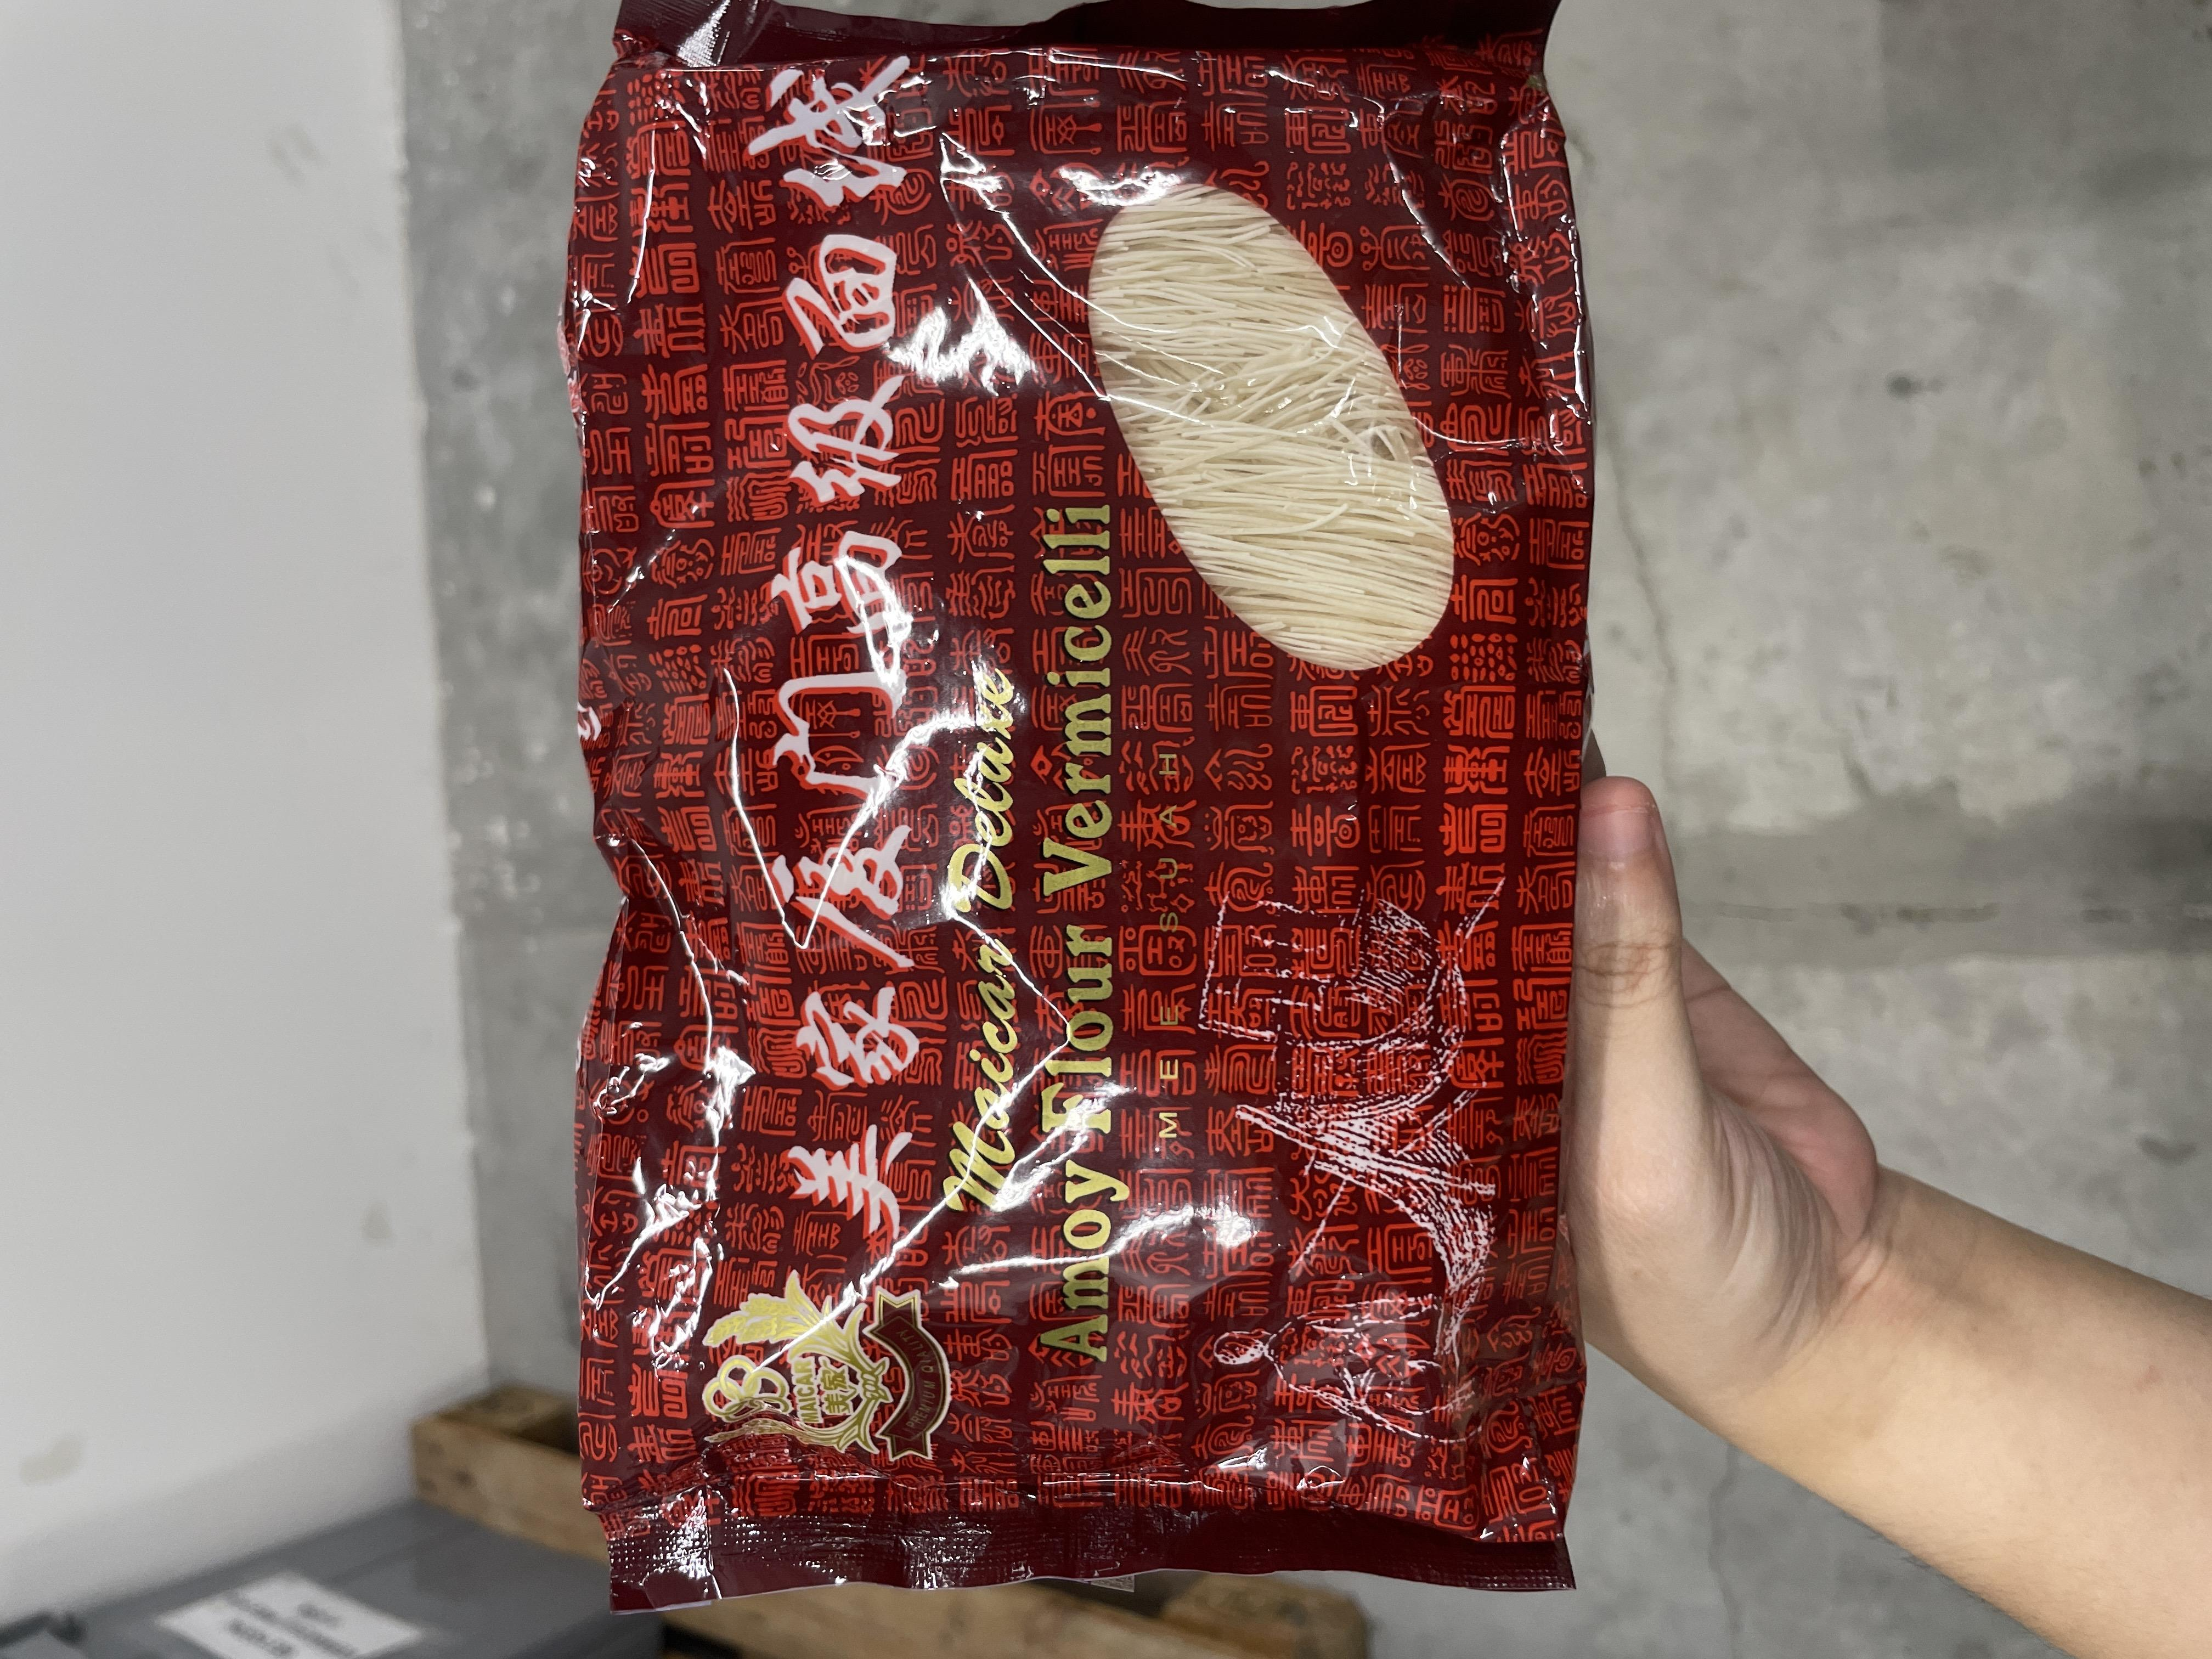object_name: (94, 626, 1580, 1520)
